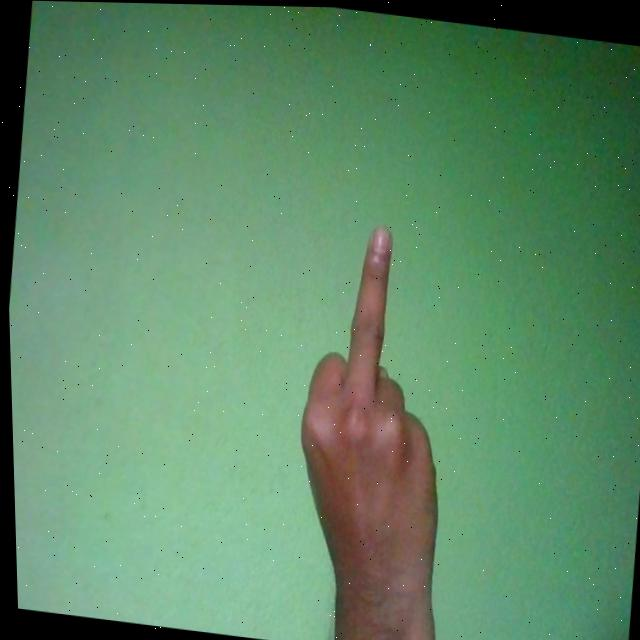Middle Finger: (270, 213, 467, 640)
